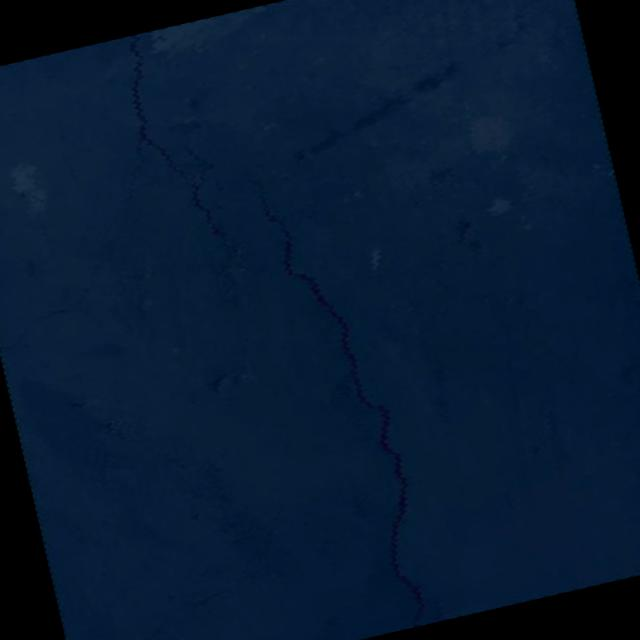crack: (243, 161, 443, 640), (92, 30, 190, 201), (179, 136, 259, 285), (0, 287, 97, 350), (108, 203, 138, 238)
